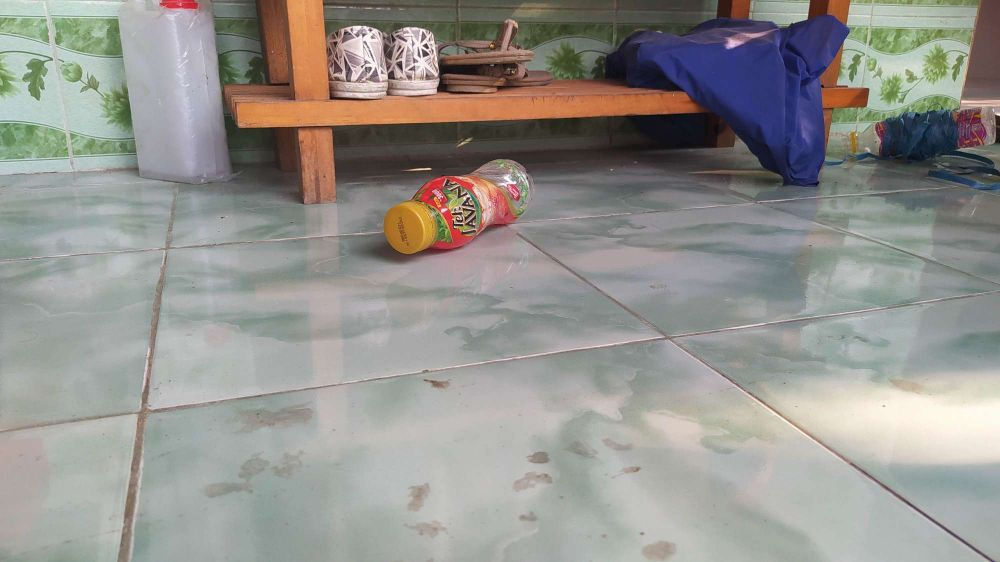botol: (378, 132, 550, 275)
